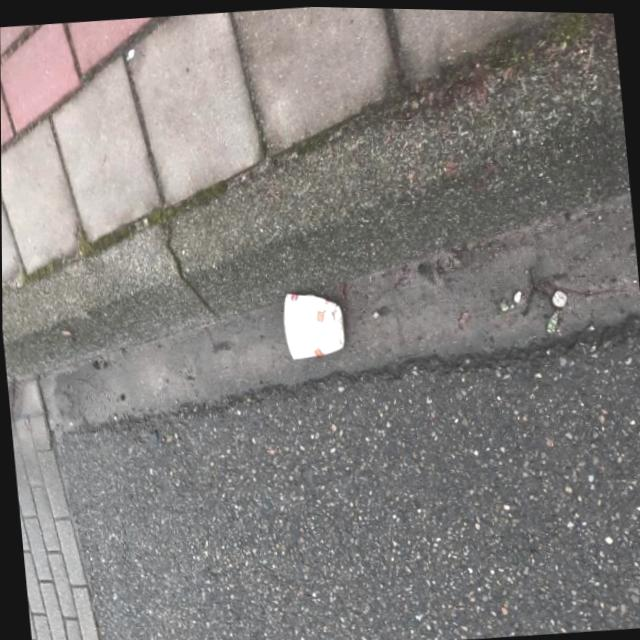Cup: (280, 286, 348, 361)
